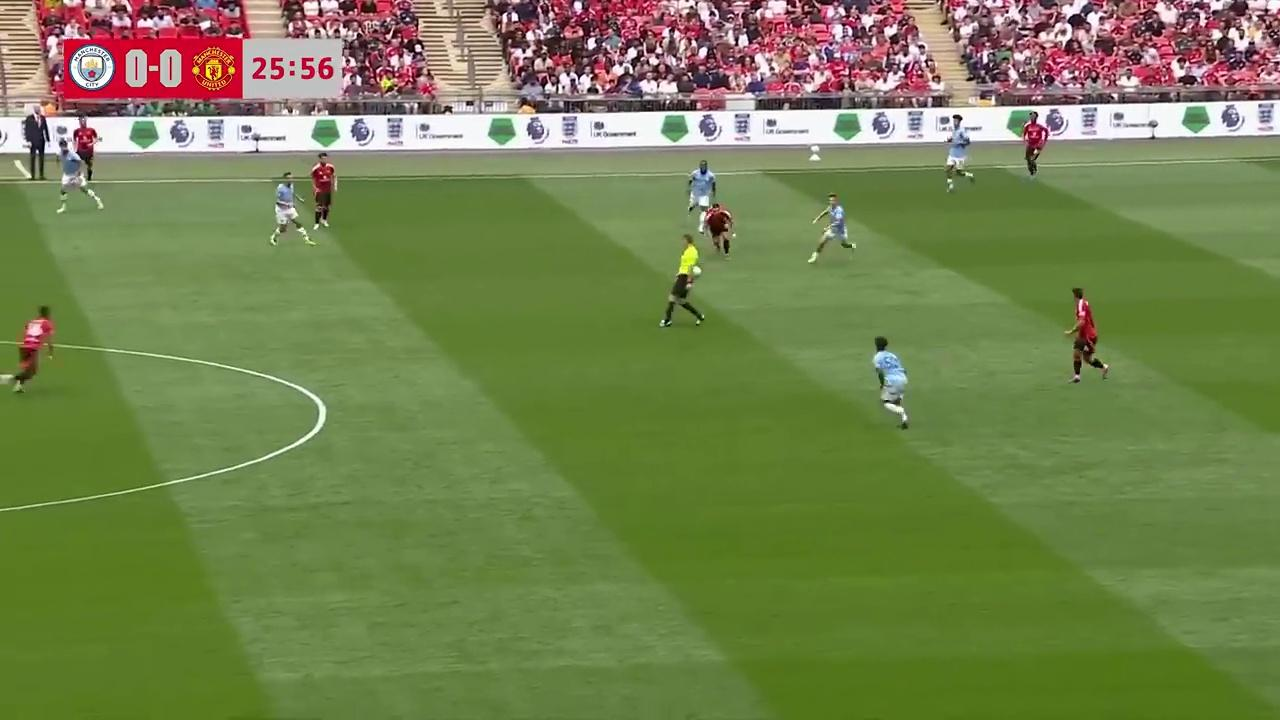ball: (692, 261, 702, 277)
player: (5, 304, 55, 394), (1064, 290, 1108, 383), (871, 336, 910, 429), (66, 121, 104, 211), (808, 193, 856, 263), (270, 172, 312, 247), (308, 154, 337, 231), (943, 125, 975, 192), (57, 143, 88, 211), (700, 200, 735, 259), (1019, 116, 1045, 178), (686, 160, 713, 216)
referee: (658, 234, 705, 328)
